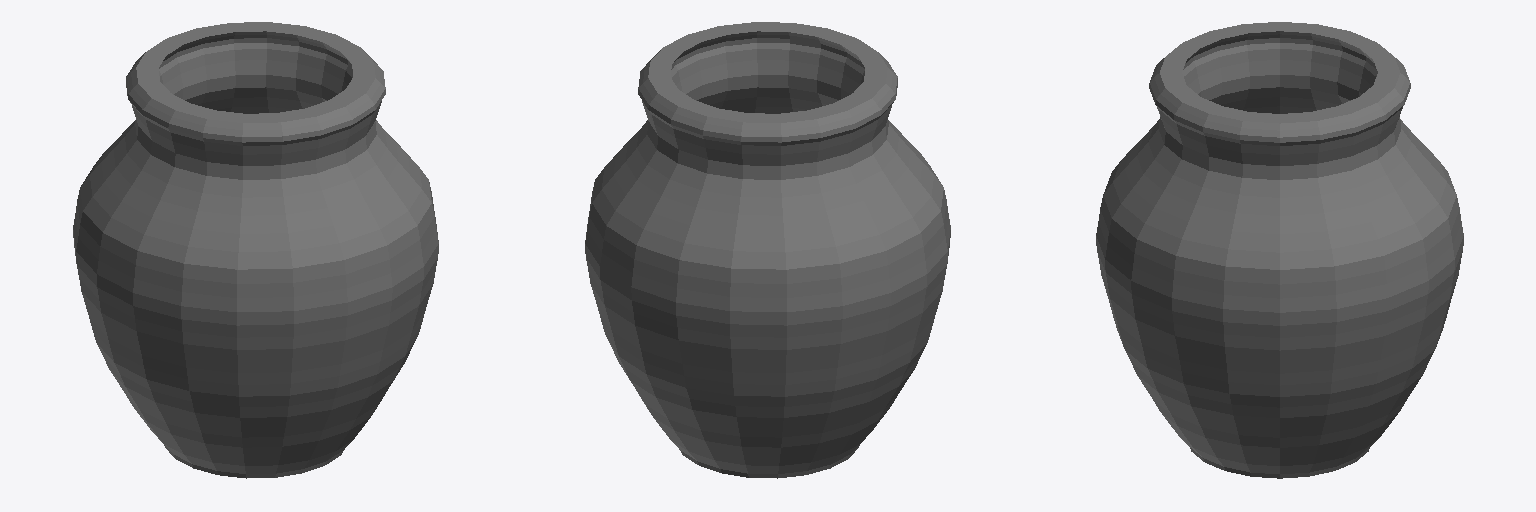
File: vase-t2.obj
3 renders of one model, left to right at view 1: azimuth 30°, elevation 25°; view 2: azimuth 150°, elevation 25°; view 3: azimuth 270°, elevation 25°, orthographic.
Parts seen in each view (by area): view 1: 1; view 2: 1; view 3: 1.
Boxes of the visible parts, <box> form: 1: <box>73,22,438,478</box>; 1: <box>585,22,950,478</box>; 1: <box>1096,22,1463,478</box>.
Bounding box in the file's own units: 1.56 × 1.72 × 1.56.